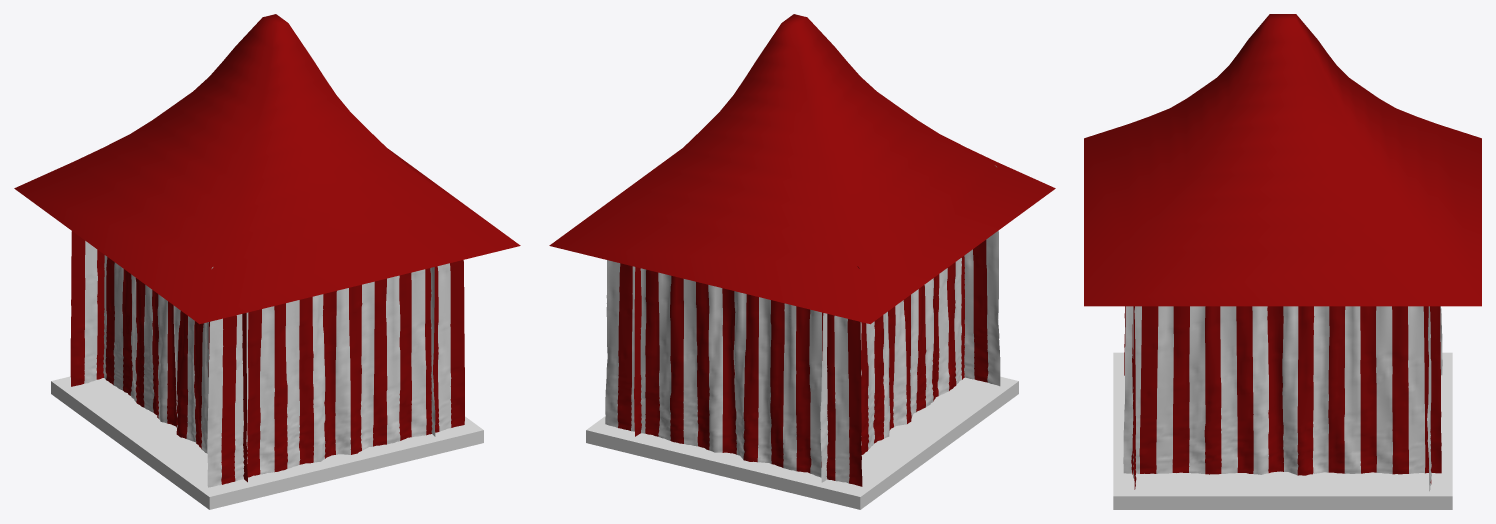
File: LobbyTent.fbx
3 renders of one model, left to right at view 1: azimuth 30°, elevation 25°; view 2: azimuth 150°, elevation 25°; view 3: azimuth 270°, elevation 25°, orthographic. The views are drawn at different scales.
Parts seen in each view (by area): view 1: LobbyTentRoof, LobbyTentWall3, LobbyTentFloor, LobbyTentWall1, LobbyTentWall4, LobbyTentWall2; view 2: LobbyTentRoof, LobbyTentWall4, LobbyTentFloor, LobbyTentWall1, LobbyTentWall3, LobbyTentWall2; view 3: LobbyTentRoof, LobbyTentWall2, LobbyTentFloor, LobbyTentWall3, LobbyTentWall4.
Part boxes in pixels (<box>): LobbyTentRoof: <box>14,14,520,324</box>; LobbyTentWall3: <box>207,260,464,487</box>; LobbyTentFloor: <box>51,376,483,509</box>; LobbyTentWall1: <box>103,255,247,482</box>; LobbyTentWall4: <box>70,166,104,386</box>; LobbyTentWall2: <box>430,267,435,436</box>; LobbyTentRoof: <box>549,14,1055,324</box>; LobbyTentWall4: <box>605,260,862,486</box>; LobbyTentFloor: <box>586,376,1018,509</box>; LobbyTentWall1: <box>820,256,964,482</box>; LobbyTentWall3: <box>964,165,1000,386</box>; LobbyTentWall2: <box>634,267,641,436</box>; LobbyTentRoof: <box>1084,14,1481,306</box>; LobbyTentWall2: <box>1123,306,1441,475</box>; LobbyTentFloor: <box>1113,352,1452,509</box>; LobbyTentWall3: <box>1131,306,1136,489</box>; LobbyTentWall4: <box>1427,306,1431,491</box>.
Size of the model in its own units: 2397 by 2825 by 2397.
